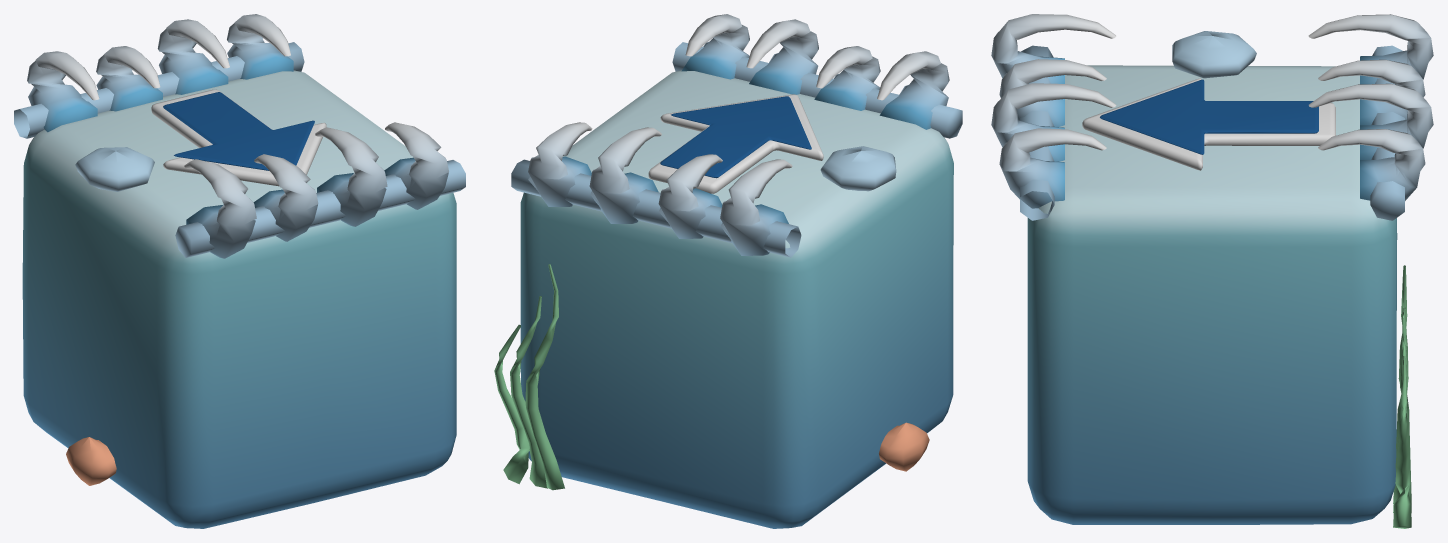
3 renders of one model, left to right at view 1: azimuth 30°, elevation 25°; view 2: azimuth 150°, elevation 25°; view 3: azimuth 270°, elevation 25°, orthographic. The views are drawn at different scales.
Parts seen in each view (by area): view 1: su_hi; view 2: su_hi; view 3: su_hi.
Boxes of the visible parts, bbox=[...] form: su_hi: bbox=[14, 14, 465, 528]; su_hi: bbox=[494, 14, 962, 528]; su_hi: bbox=[991, 14, 1433, 528].
Bounding box in the file's own units: 1.01 × 1.06 × 1.08.
